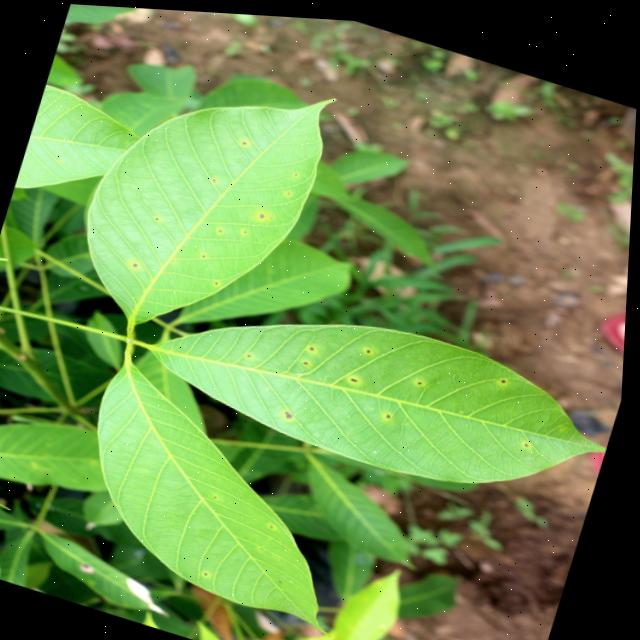Colletotrichum: (290, 409, 297, 414)
